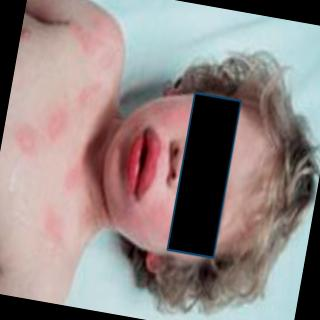urticaria: (12, 111, 90, 161)
